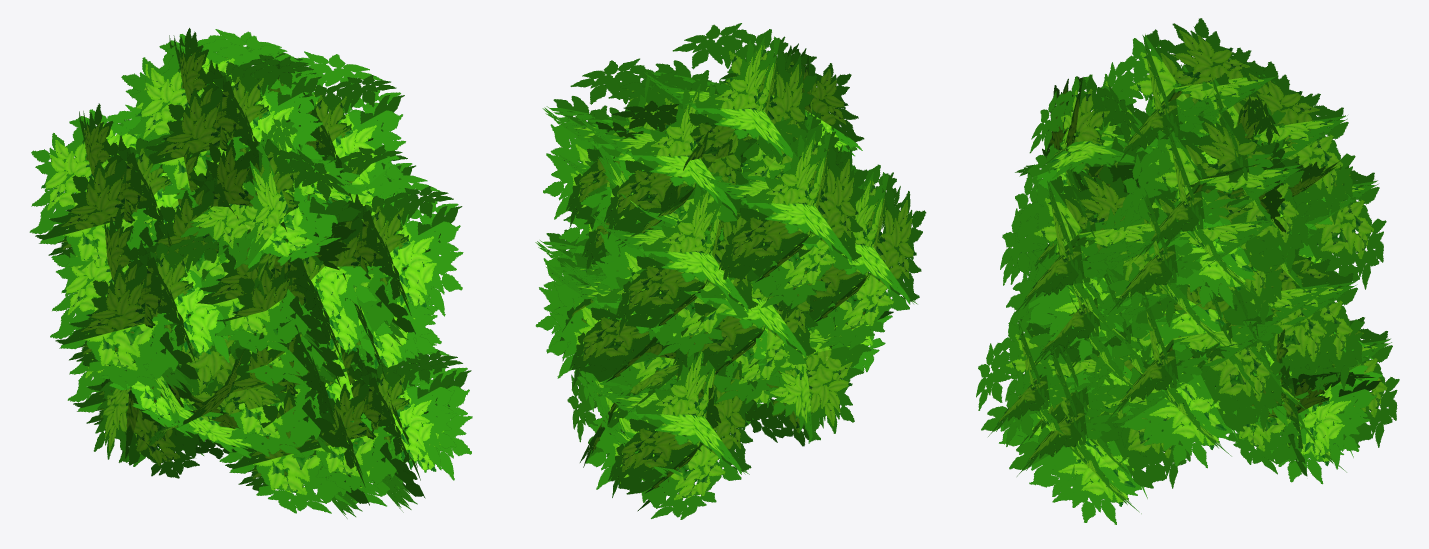
Rendered from BirchLOD1.fbx.
3 views of the same model, side by side, from view 1: azimuth 30°, elevation 25°; view 2: azimuth 150°, elevation 25°; view 3: azimuth 270°, elevation 25° (orthographic). The views are drawn at different scales.
Visible parts, largest first — view 1: Plane.007; view 2: Plane.007; view 3: Plane.007.
Boxes of the visible parts, bbox=[...] form: Plane.007: bbox=[29, 28, 472, 518]; Plane.007: bbox=[535, 23, 926, 519]; Plane.007: bbox=[976, 18, 1399, 524].
Size of what is drawn, in the model's own units: 631 by 738 by 657.
